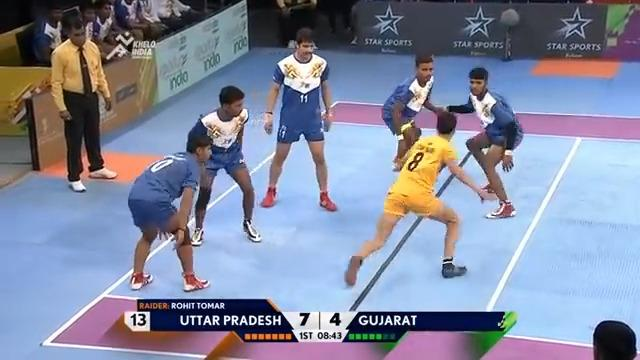Player: (422, 66, 524, 219), (259, 27, 337, 212), (126, 132, 213, 292), (49, 10, 118, 192), (186, 85, 262, 246), (380, 50, 446, 171)
Raider: (343, 110, 495, 286)
referee: (276, 0, 318, 48), (318, 0, 357, 35)
